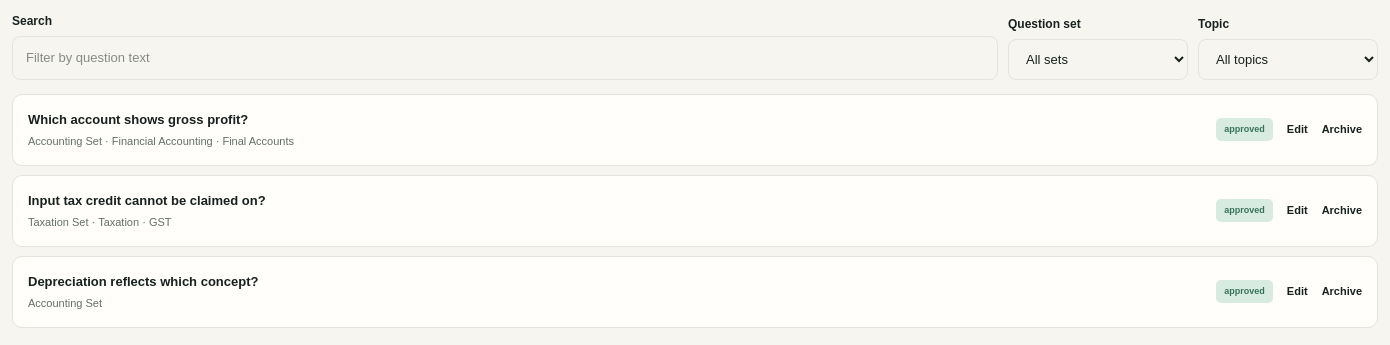
QuestionBankList › filters by free-text search
Type "depreciation" into the field with placeholder "Filter by question text".
click(505, 58); type("depreciation")  # box [12,36,998,80]
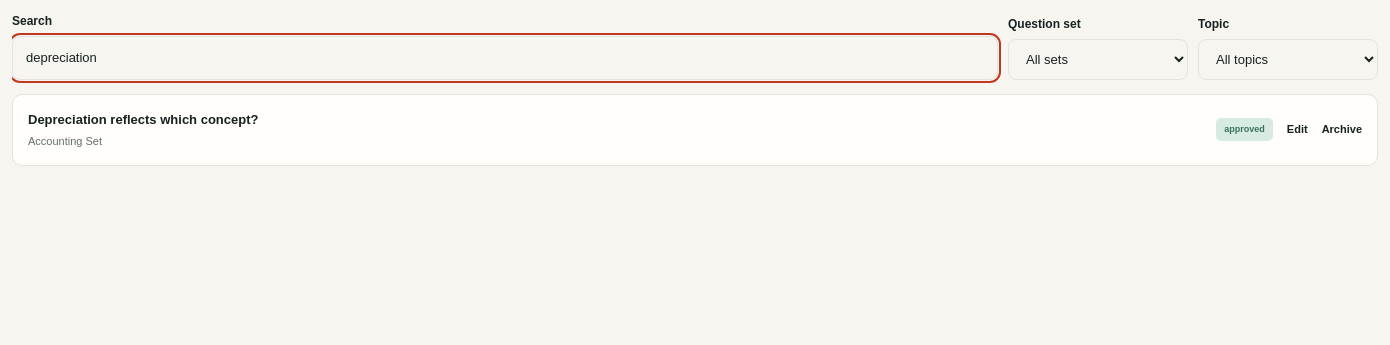
Expected: the text "Depreciation reflects which concept?" is shown, [28,112,258,126]
Result: the text "Which account shows gross profit" is gone
Result: the text "Input tax credit" is gone
